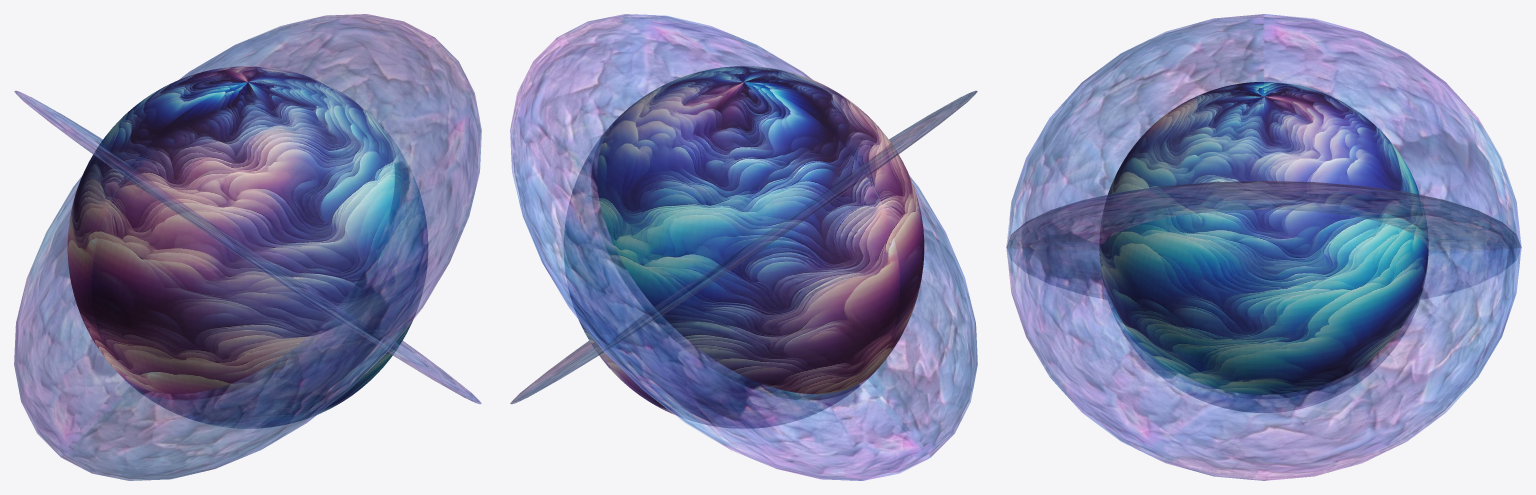
Rendered from Cotton world .fbx.
The picture shows the model from 3 angles, left to right: view 1: azimuth 30°, elevation 25°; view 2: azimuth 150°, elevation 25°; view 3: azimuth 270°, elevation 25°; orthographic projection. The views are drawn at different scales.
Parts seen in each view (by area): view 1: Sphere, Sphere.001, Sphere.002; view 2: Sphere, Sphere.001, Sphere.002; view 3: Sphere.002, Sphere, Sphere.001.
Part boxes in pixels (x1,y1,x2,y2): Sphere: (67,66,427,428); Sphere.001: (14,14,481,480); Sphere.002: (14,90,481,404); Sphere: (564,66,924,428); Sphere.001: (510,14,977,480); Sphere.002: (510,90,977,404); Sphere.002: (1006,14,1521,480); Sphere: (1099,82,1428,412); Sphere.001: (1006,180,1521,299).
Size of the model in its own units: 1183 by 998 by 1544.
Materials: 3 (3 with a texture image).
